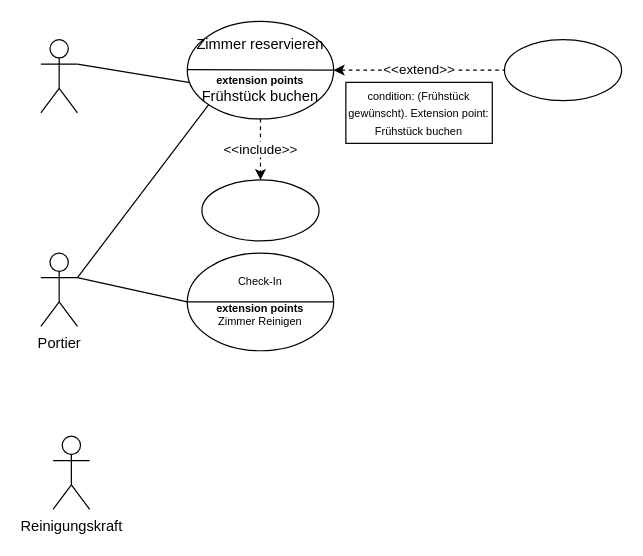
This 643x556 diagram has some shape labels left out. Each missing label, with the centre of its shape:
Daten eingeben: point (260, 210)
Frühstück buchen: point (562, 69)
Gast: point (58, 75)
